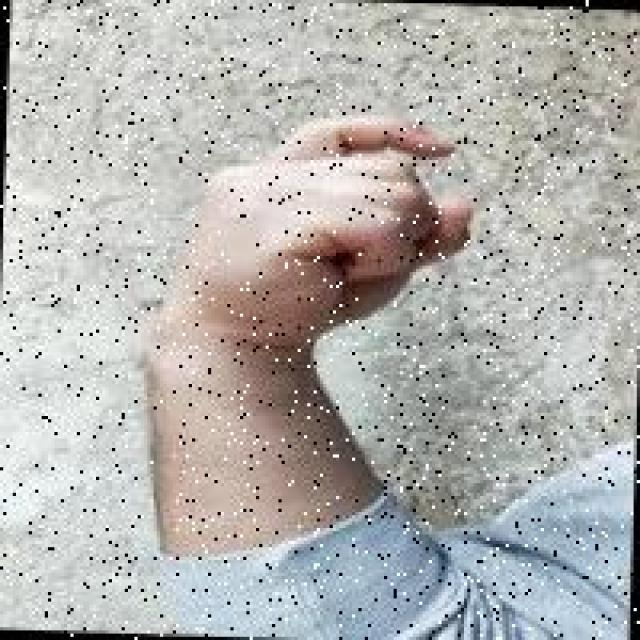X: (168, 110, 485, 364)
